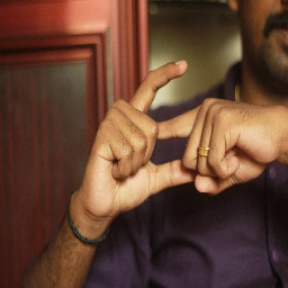E: (118, 58, 235, 195)
